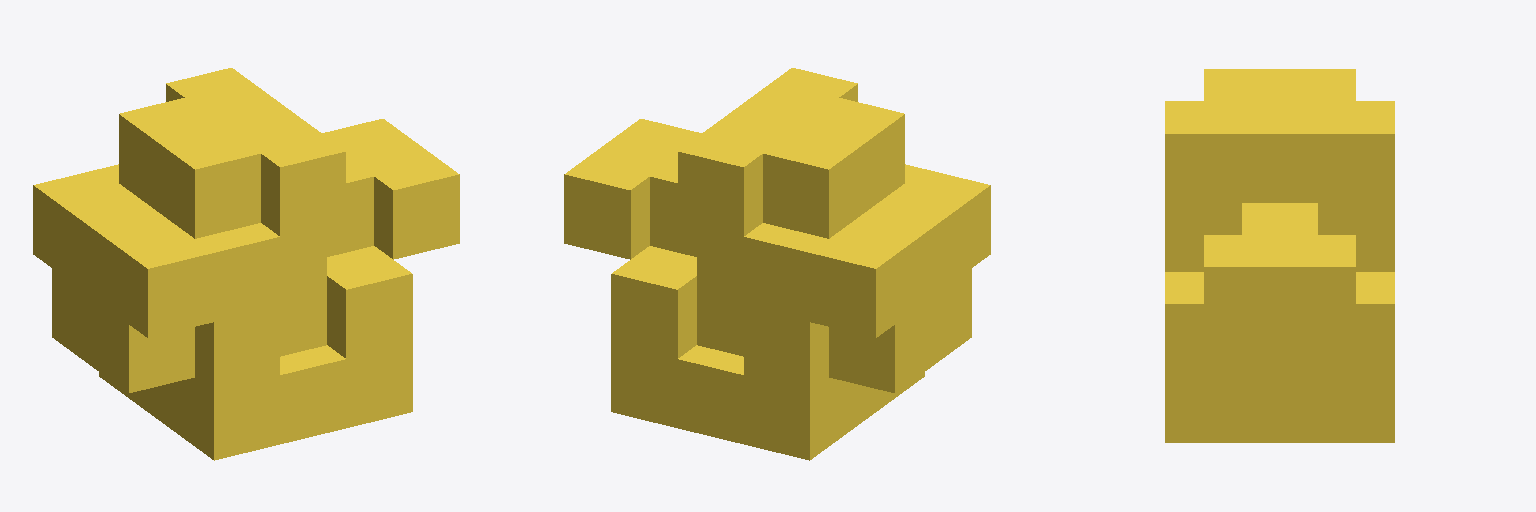
The model's file is Crystal.obj.
3 views of the same model, side by side, from view 1: azimuth 30°, elevation 25°; view 2: azimuth 150°, elevation 25°; view 3: azimuth 270°, elevation 25° (orthographic).
Size of the model in its own units: 5 by 4 by 3.